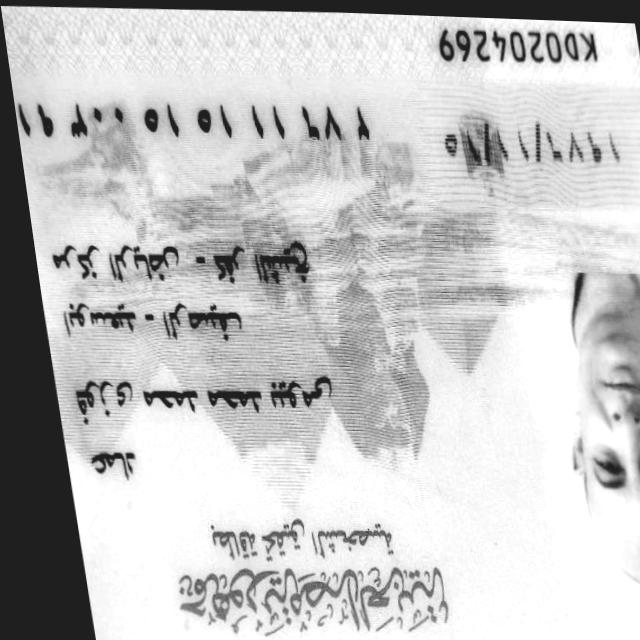front: (1, 7, 640, 640)
